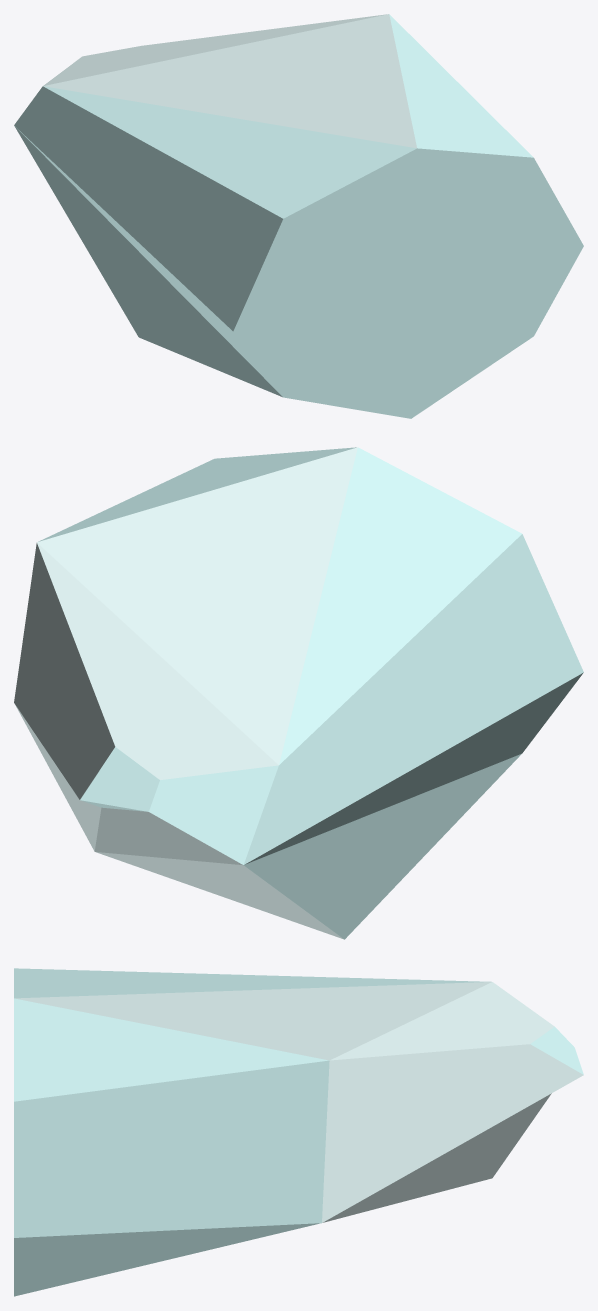
Rendered from winter_cube_1.fbx.
3 renders of one model, top to bottom at view 1: azimuth 30°, elevation 25°; view 2: azimuth 150°, elevation 25°; view 3: azimuth 270°, elevation 25°, orthographic. The views are drawn at different scales.
Visible parts, largest first — view 1: winter_cube_1; view 2: winter_cube_1; view 3: winter_cube_1.
Part boxes in pixels (x1,y1,x2,y2): winter_cube_1: [14, 14, 583, 418]; winter_cube_1: [14, 447, 583, 939]; winter_cube_1: [14, 968, 583, 1296].
Bounding box in the file's own units: 70.27 × 51.51 × 90.68.
